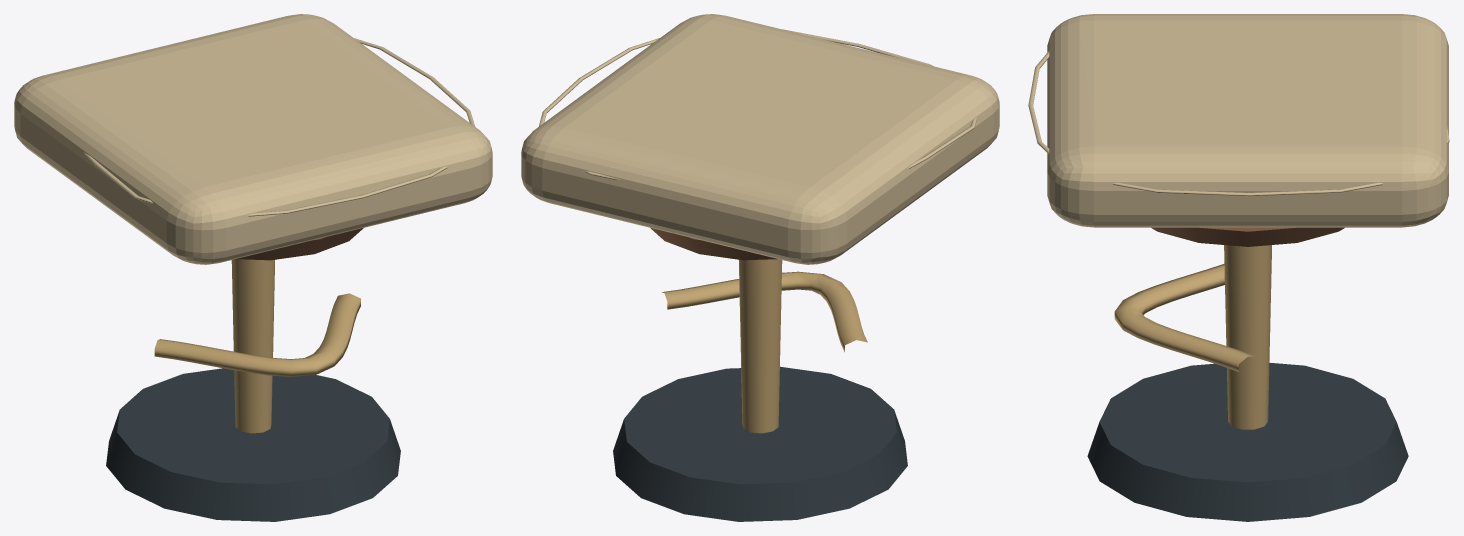
The model's file is chair-6-3.glb.
The picture shows the model from 3 angles, left to right: view 1: azimuth 30°, elevation 25°; view 2: azimuth 150°, elevation 25°; view 3: azimuth 270°, elevation 25°; orthographic projection. The views are drawn at different scales.
Visible parts, largest first — view 1: tailored-cushion, part (×3); view 2: tailored-cushion, part (×3); view 3: tailored-cushion, part (×3).
Boxes of the visible parts, x1=… form: tailored-cushion: x1=14, y1=14, x2=492, y2=264; part (×3): x1=106, y1=228, x2=400, y2=521; tailored-cushion: x1=521, y1=14, x2=999, y2=264; part (×3): x1=613, y1=228, x2=907, y2=521; tailored-cushion: x1=1028, y1=14, x2=1449, y2=227; part (×3): x1=1087, y1=227, x2=1408, y2=521.
Bounding box in the file's own units: 1 × 1 × 1.
